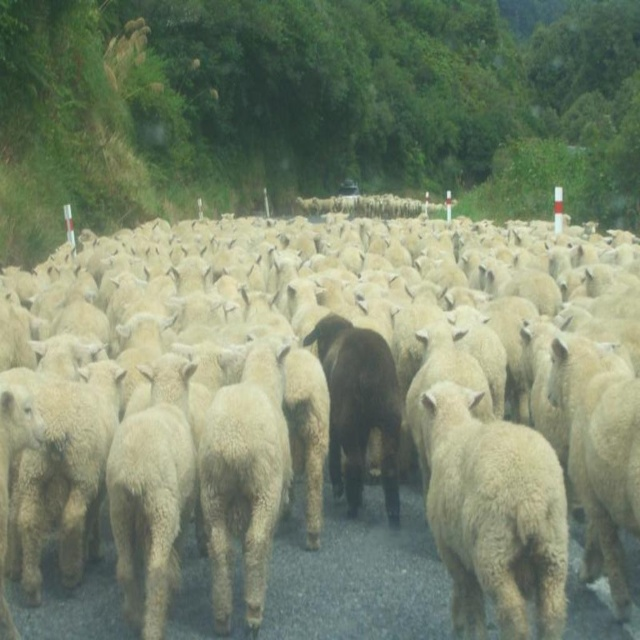Sheep: (0, 193, 640, 640)
